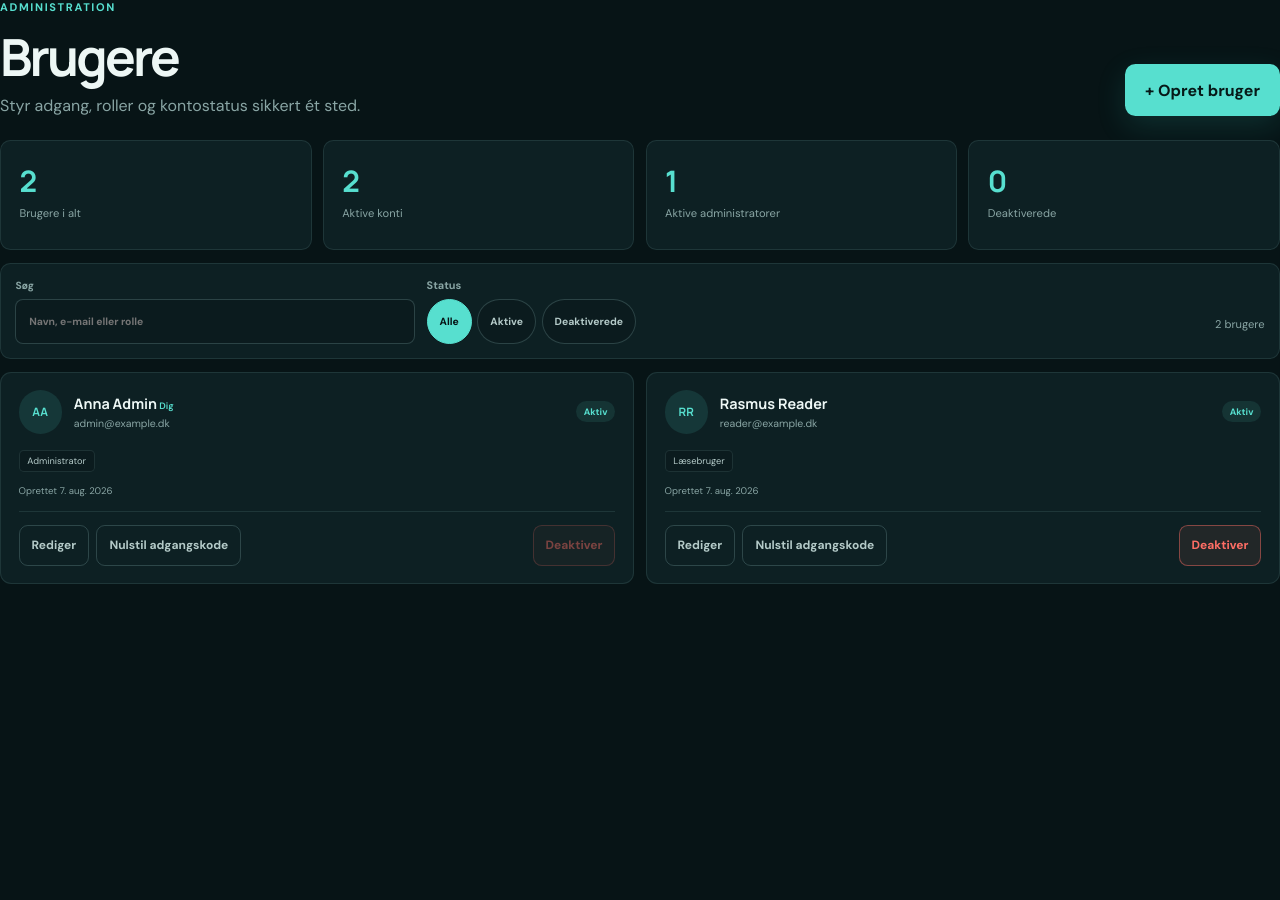
Test: bekræfter nulstilling uden at gengive adgangskoden
Check: the heading "Rasmus Reader" is shown, box [720,394,828,413]
Click the button "Nulstil adgangskode" below "Læsebruger" at (815,545), box [742,525,887,566]
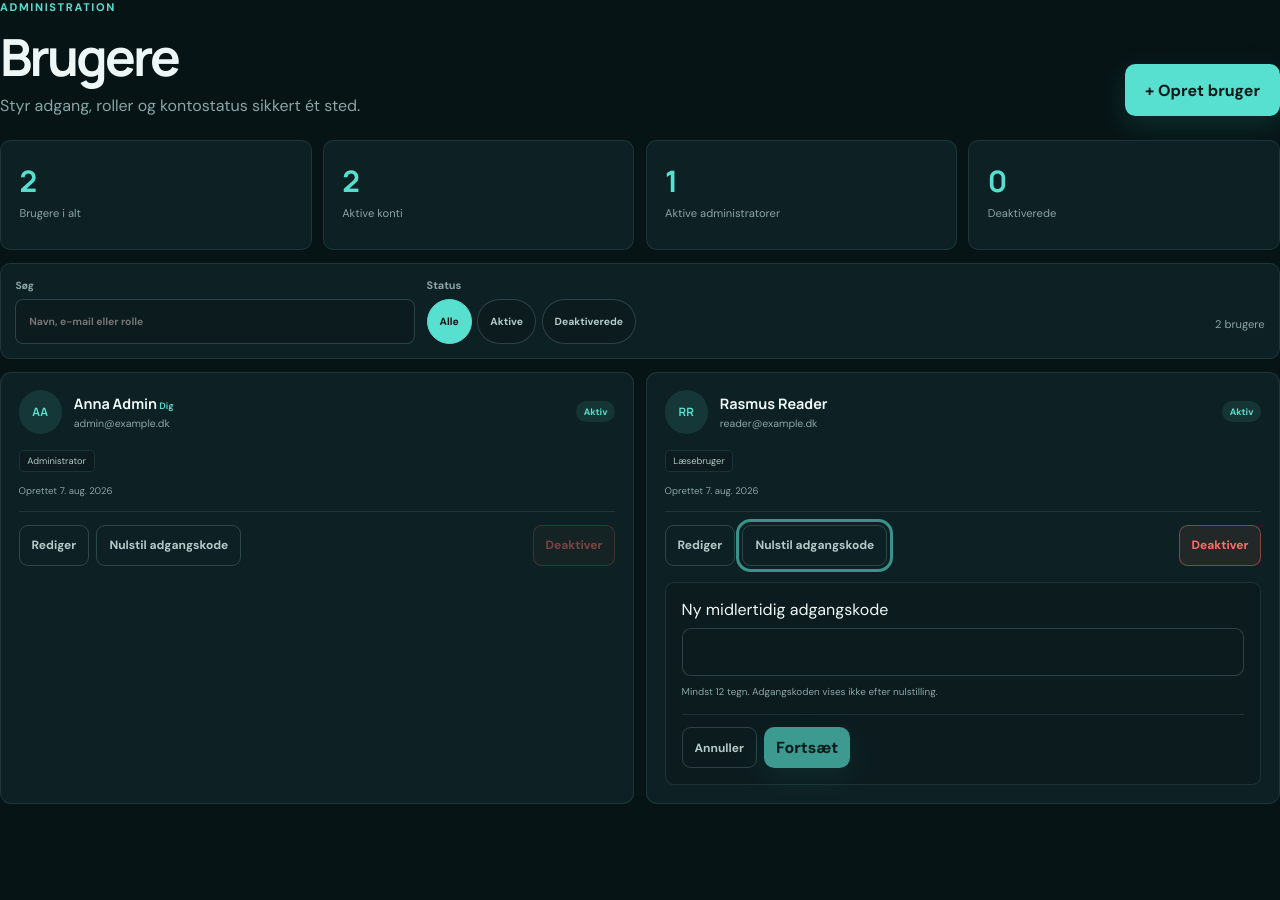
Type "hemmelig kode 123" into the password field labelled "Ny midlertidig adgangskode" at (963,652), box [682,628,1244,676]
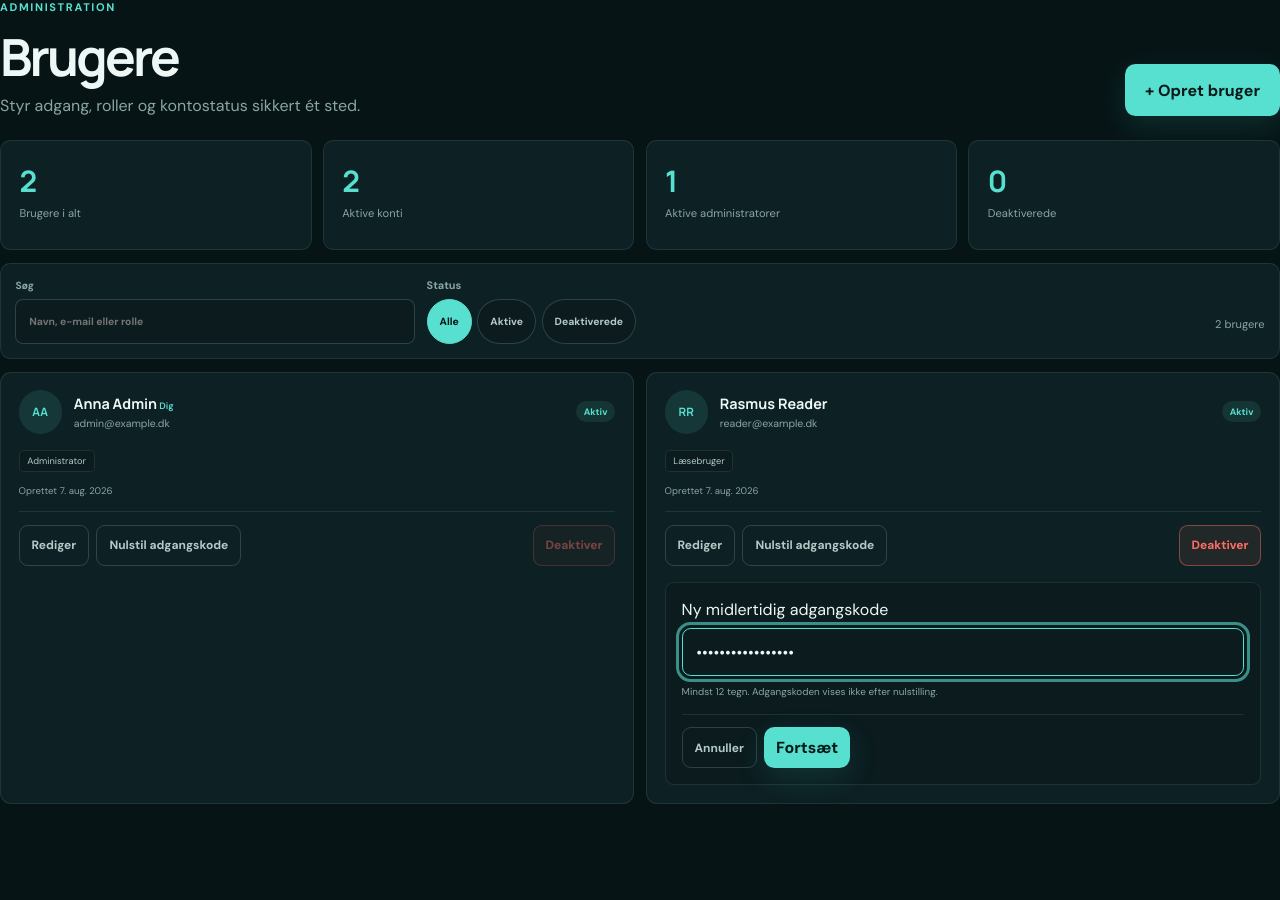
Click the button "Fortsæt" at (807,748), box [764,727,850,768]
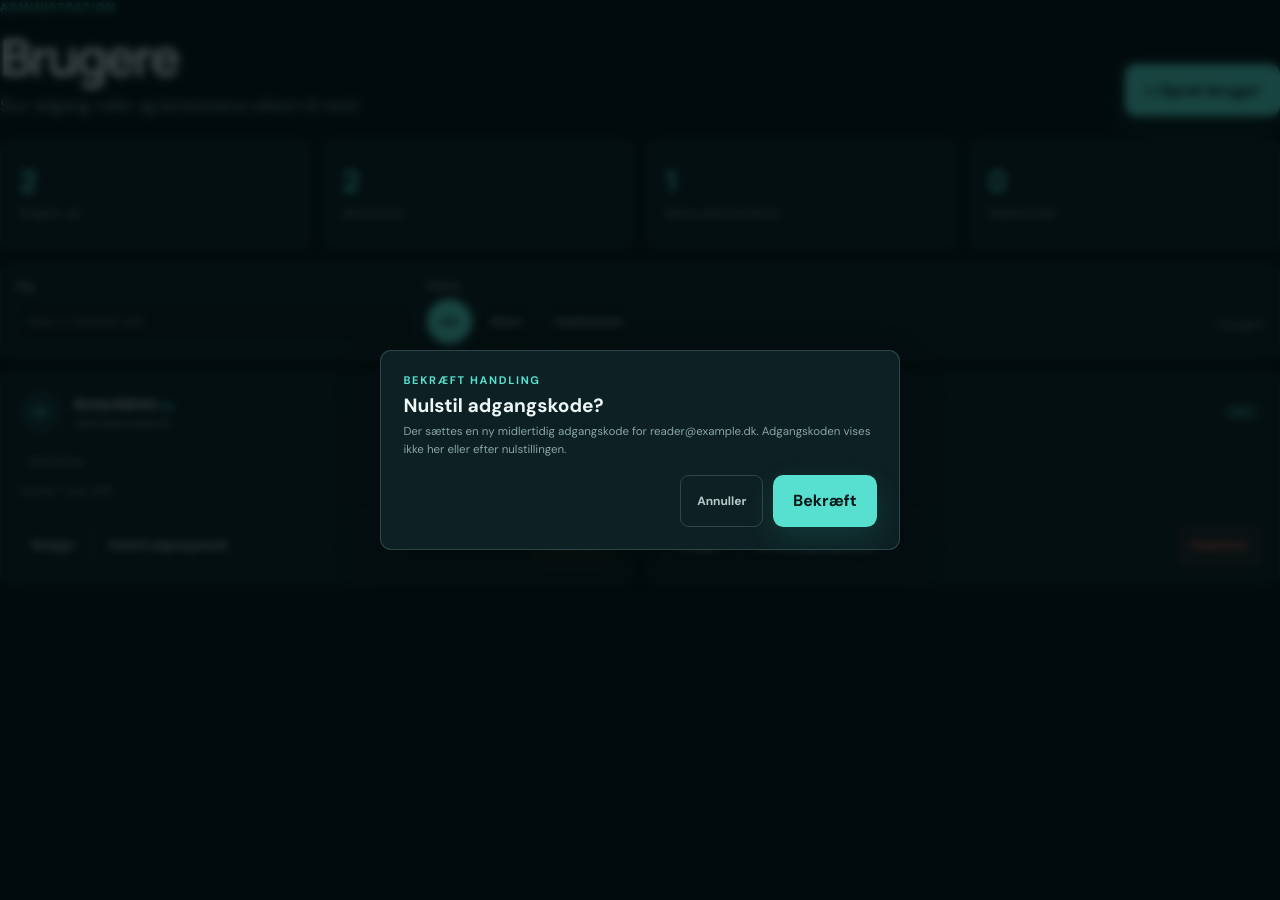
Check: the dialog does not show "hemmelig kode 123", box [380,350,900,550]
Check: the dialog shows "Nulstil adgangskode?", box [403,393,604,418]
